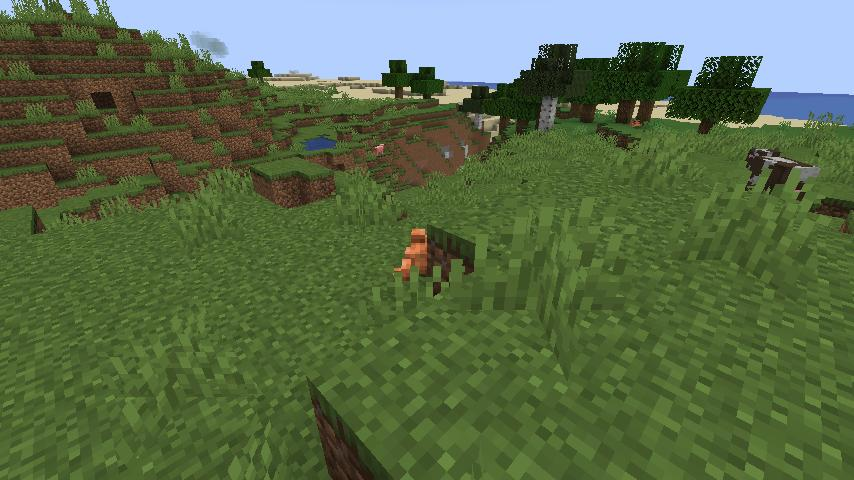cow: (740, 144, 823, 206)
frog: (392, 221, 429, 283), (629, 118, 642, 129)
pig: (373, 142, 386, 157)
